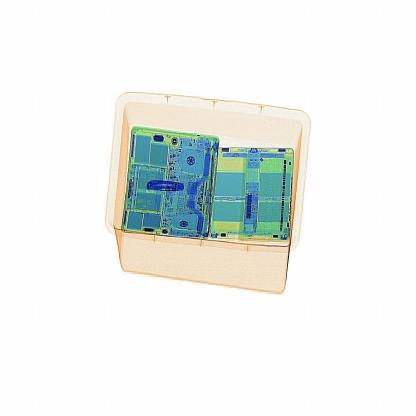knife: (143, 169, 190, 208)
